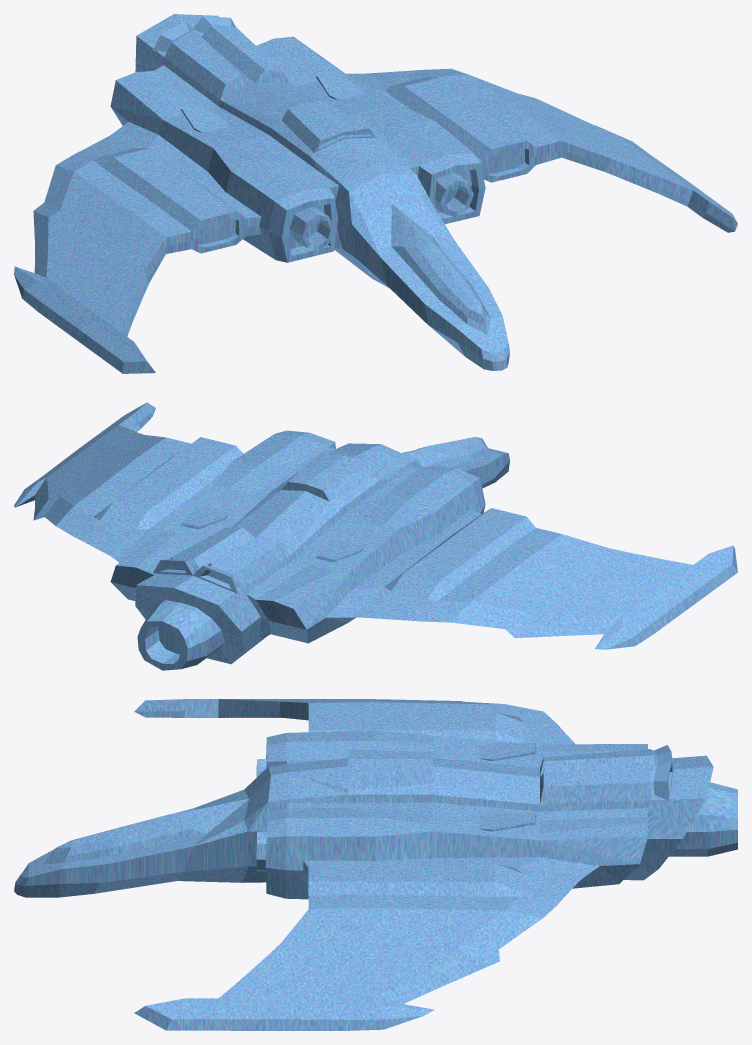
The model's file is Player_Life.fbx.
The picture shows the model from 3 angles, top to bottom: view 1: azimuth 30°, elevation 25°; view 2: azimuth 150°, elevation 25°; view 3: azimuth 270°, elevation 25°; orthographic projection. The views are drawn at different scales.
Visible parts, largest first — view 1: Player_Life:Player_Life1; view 2: Player_Life:Player_Life1; view 3: Player_Life:Player_Life1.
Boxes of the visible parts, x1,y1,x2,y2 form: Player_Life:Player_Life1: (14, 14, 737, 373); Player_Life:Player_Life1: (14, 402, 737, 670); Player_Life:Player_Life1: (14, 699, 737, 1030).
Bounding box in the file's own units: 189 × 37.15 × 181.
